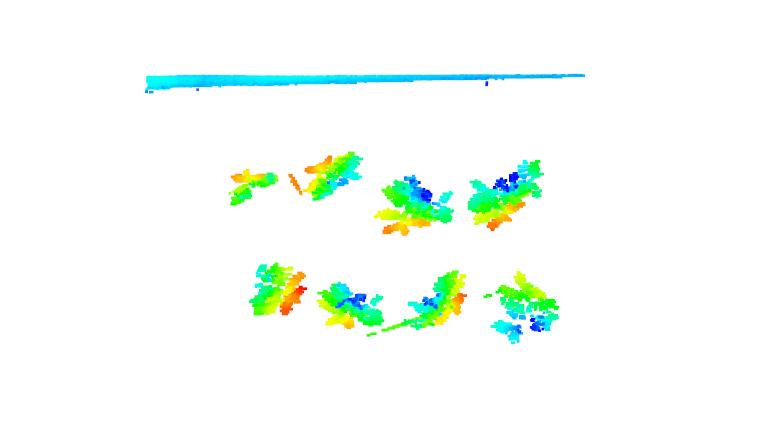chickpea: (466, 158, 544, 230), (490, 272, 561, 341), (379, 177, 454, 233), (406, 266, 471, 330), (315, 278, 390, 332), (246, 262, 303, 321), (305, 150, 368, 202), (225, 162, 282, 211)
